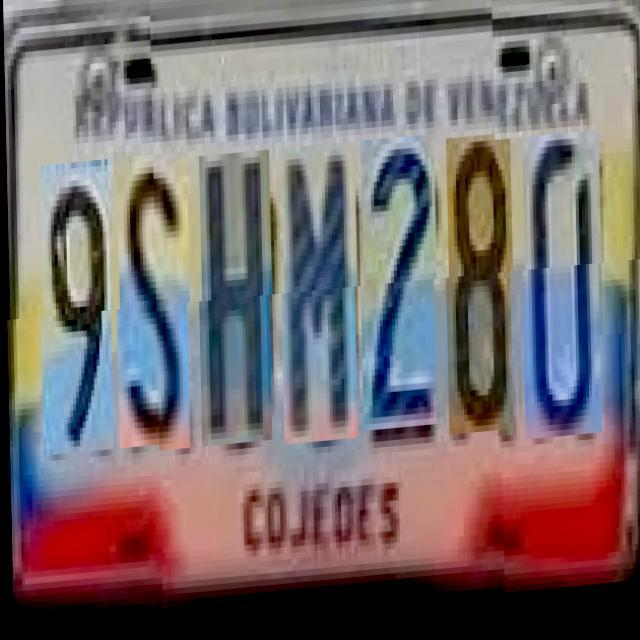0: (522, 136, 602, 444)
2: (360, 142, 438, 438)
8: (445, 142, 514, 444)
9: (40, 167, 114, 462)
H: (198, 155, 273, 450)
M: (280, 148, 358, 450)
S: (116, 162, 191, 456)
